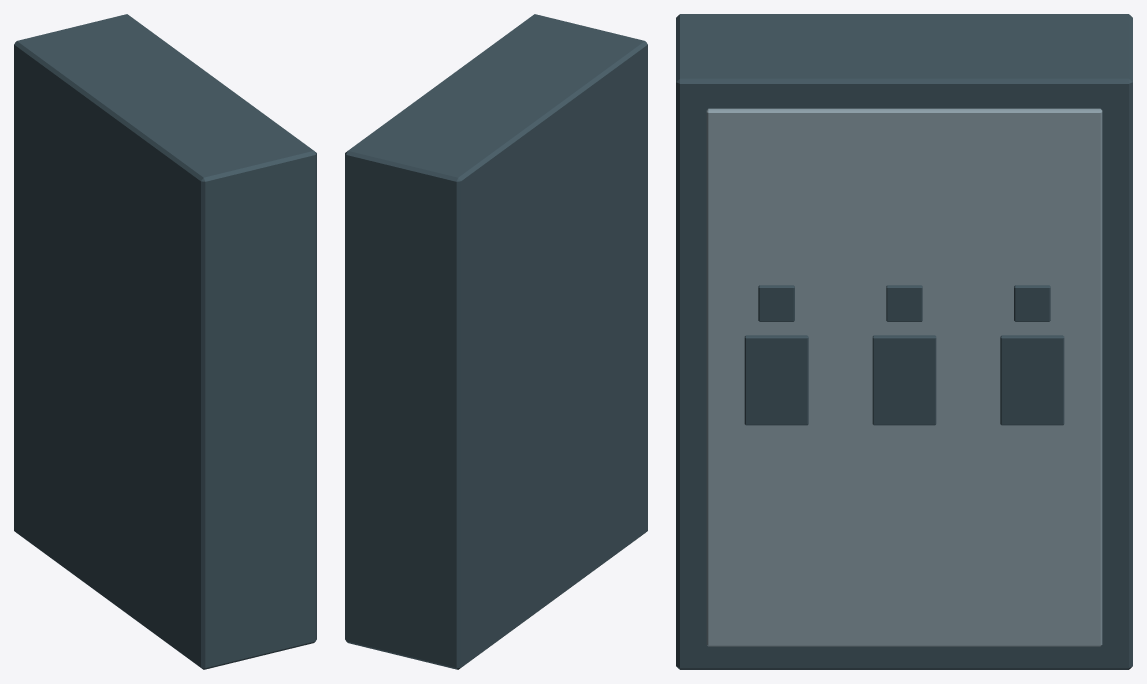
File: tableau_couloir.glb
3 views of the same model, side by side, from view 1: azimuth 30°, elevation 25°; view 2: azimuth 150°, elevation 25°; view 3: azimuth 270°, elevation 25° (orthographic). The views are drawn at different scales.
Parts seen in each view (by area): view 1: tableau_couloir; view 2: tableau_couloir; view 3: tableau_couloir.
Part boxes in pixels (bbox=[...]): tableau_couloir: bbox=[14, 14, 316, 669]; tableau_couloir: bbox=[345, 14, 647, 669]; tableau_couloir: bbox=[676, 14, 1132, 669].
Bounding box in the file's own units: 0.4 × 1.5 × 1.05.
1 material, 1 textured.
